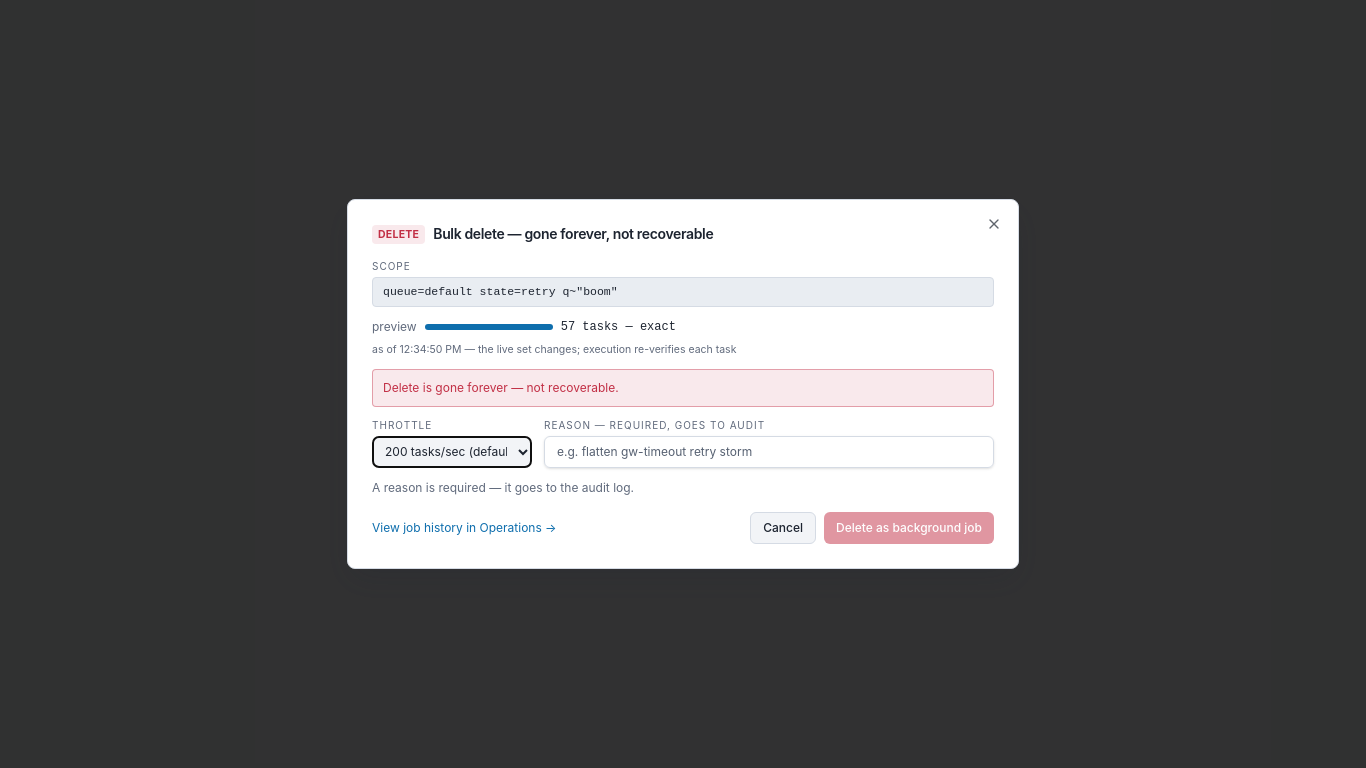
Test: BulkJobModal execute handoff and live progress › keeps the modal on the confirm screen when the execute request is refused
The width and height of the screenshot is (1366, 768).
Check: the text "57 tasks — exact" is shown, box left=561, top=319, right=676, bottom=335
Type "flatten gw-timeout storm" into the field labelled "Reason — required, goes to audit". click: (769, 452)
box: left=544, top=436, right=994, bottom=468
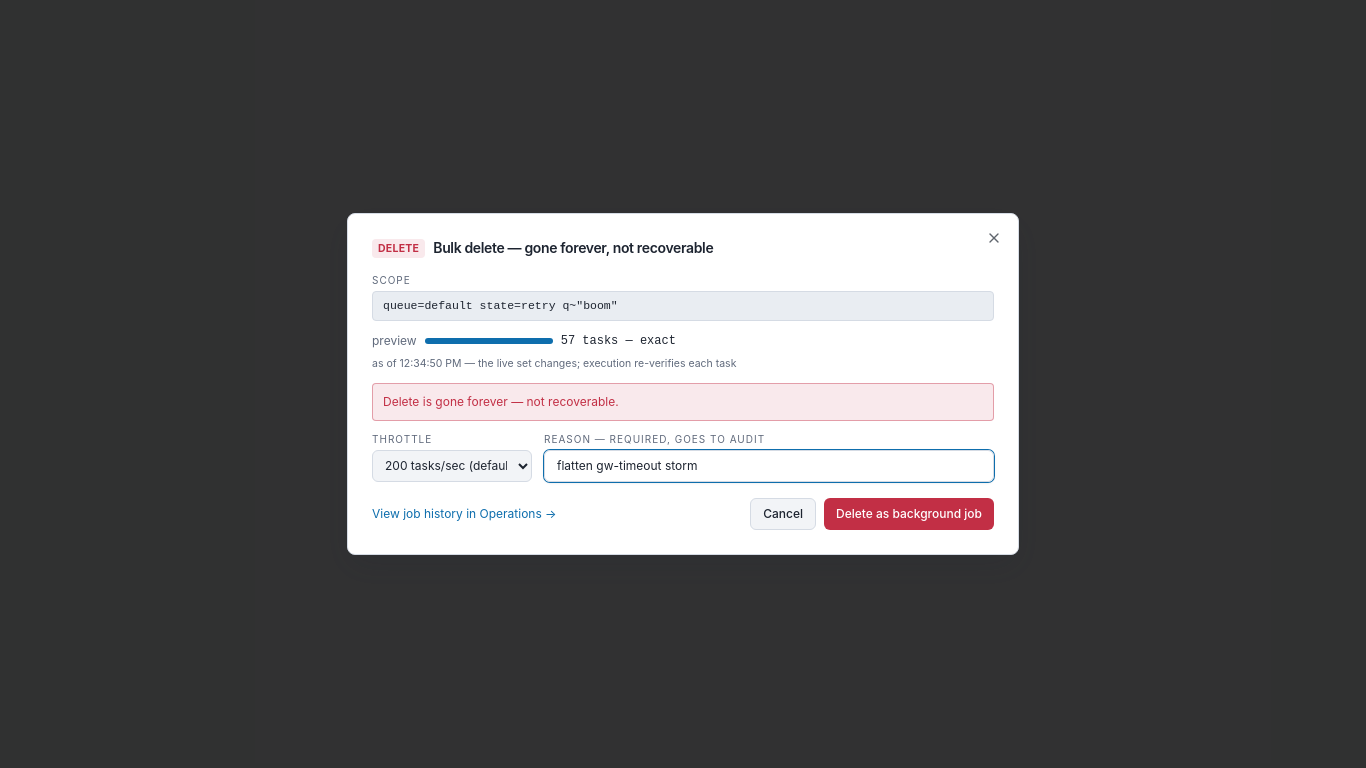
Click the button "Delete as background job". click: (909, 514)
box: left=824, top=498, right=994, bottom=530
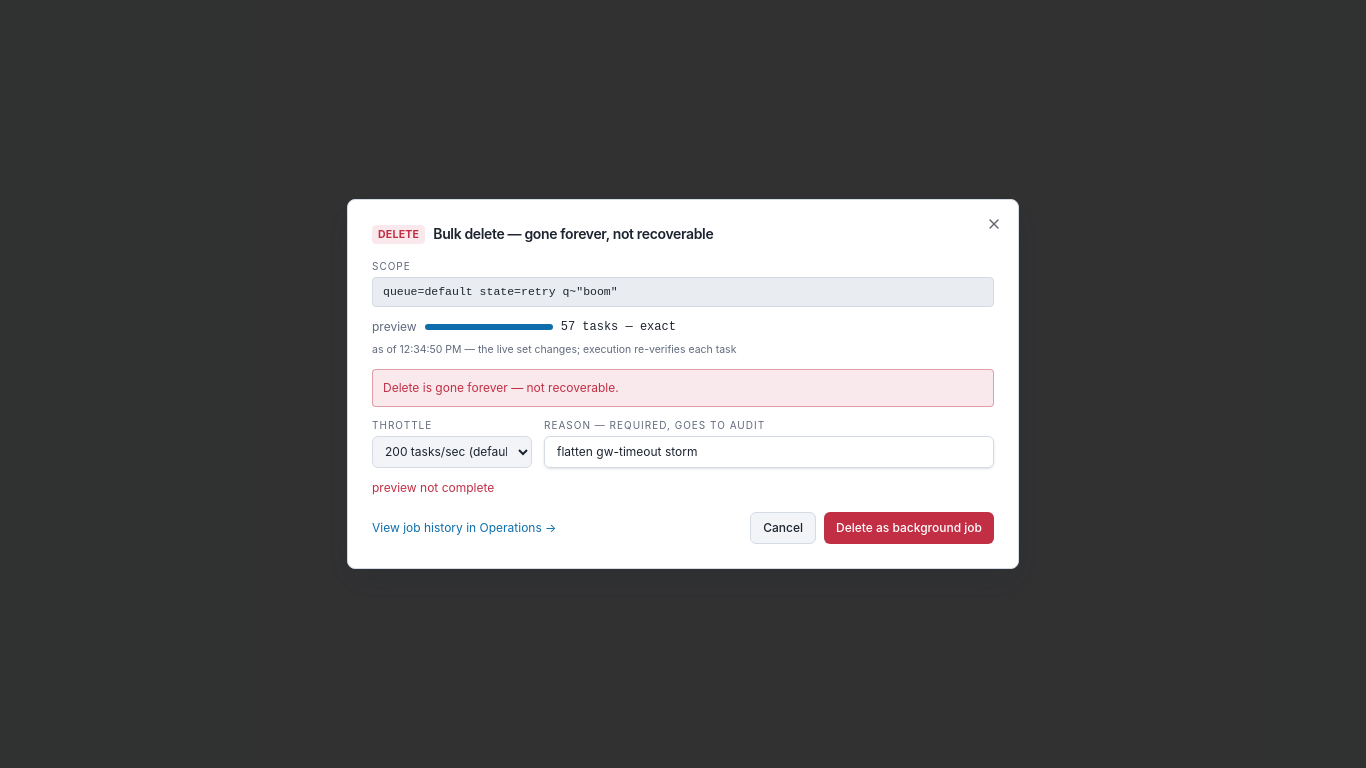
Check: the element with test id "preview-meter" is shown, box left=372, top=319, right=736, bottom=356
Check: the text "preview not complete" is shown, box left=372, top=480, right=494, bottom=495
